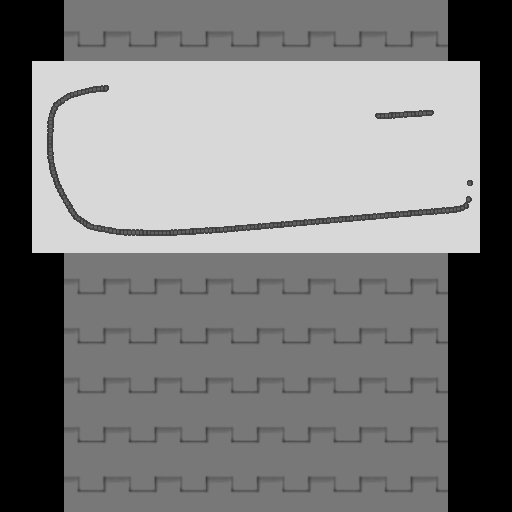Defect: (106, 77, 376, 124)
